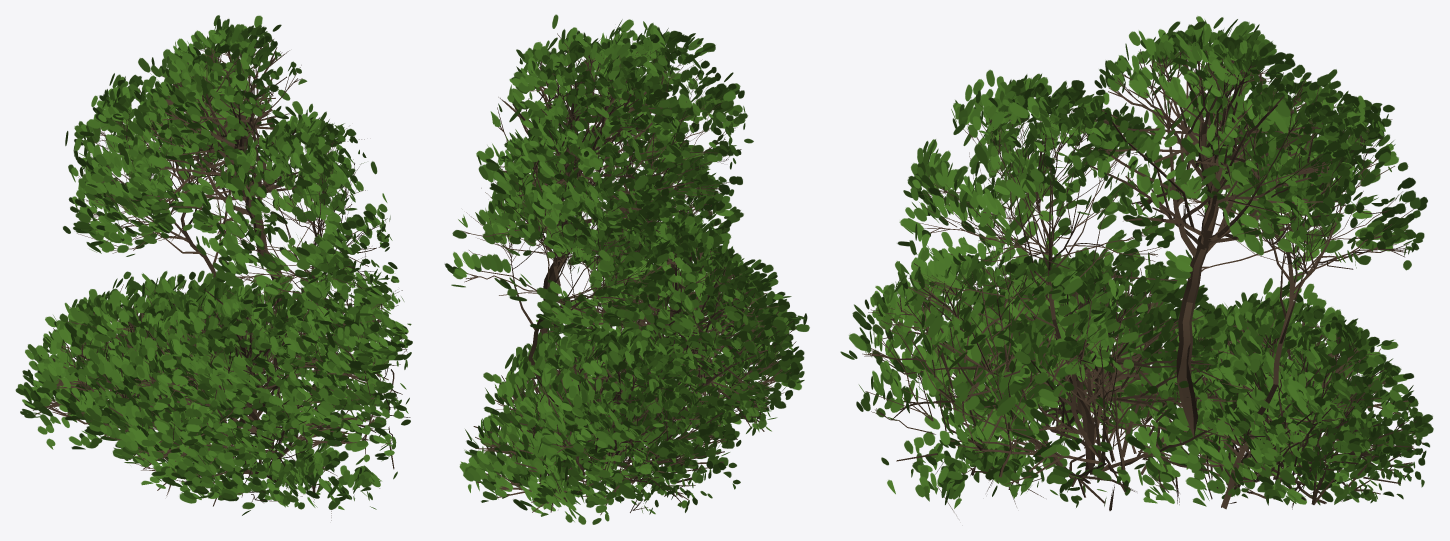
The picture shows the model from 3 angles, left to right: view 1: azimuth 30°, elevation 25°; view 2: azimuth 150°, elevation 25°; view 3: azimuth 270°, elevation 25°; orthographic projection. The views are drawn at different scales.
Parts seen in each view (by area): view 1: oak 01.001_trunk_Mat.001_0.344; view 2: oak 01.001_trunk_Mat.001_0.344; view 3: oak 01.001_trunk_Mat.001_0.344.
Part boxes in pixels (<box>): oak 01.001_trunk_Mat.001_0.344: <box>15,15,412,520</box>; oak 01.001_trunk_Mat.001_0.344: <box>444,14,809,524</box>; oak 01.001_trunk_Mat.001_0.344: <box>840,16,1433,515</box>.
Size of the model in its own units: 2.11 by 3.49 by 3.81.
Materials: 2 (1 with a texture image).
